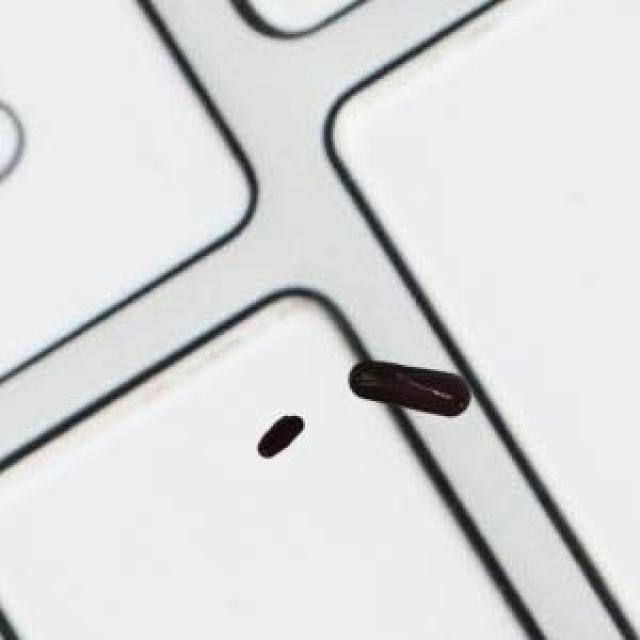DayZinc: (341, 339, 483, 427), (245, 405, 310, 466)
